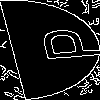P: (24, 25, 100, 64)
